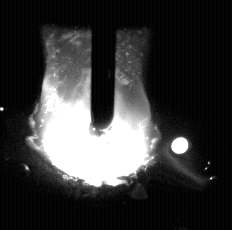arame: (92, 0, 115, 138)
poca: (32, 0, 160, 230)
